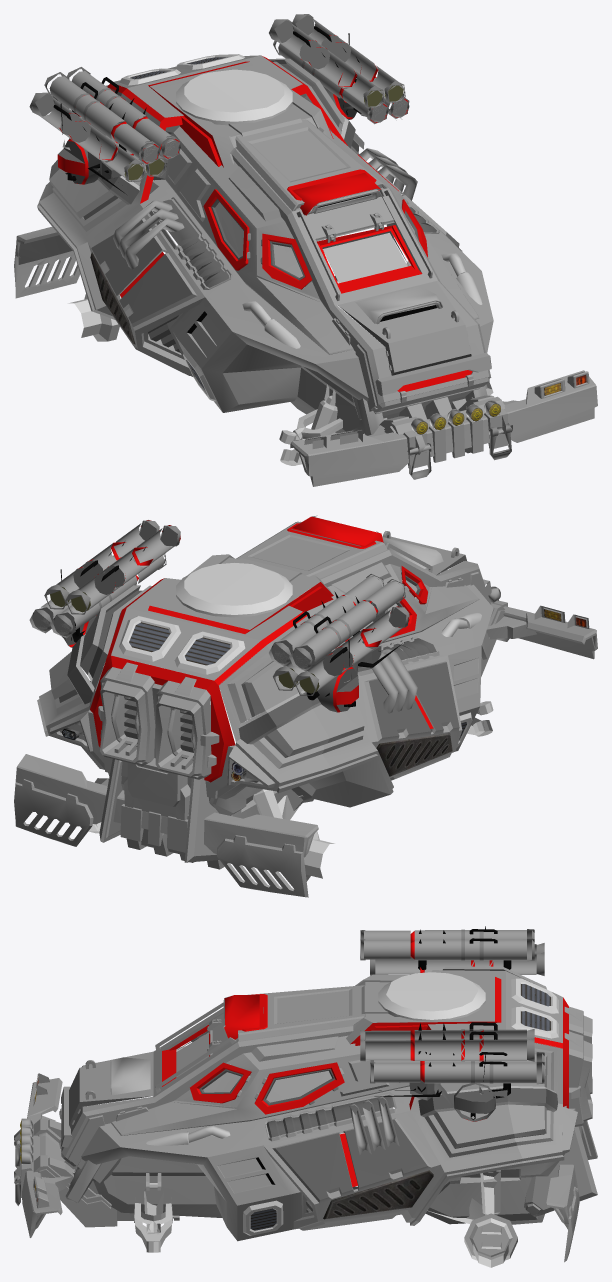
File: battle_car_far.glb
3 views of the same model, one above another, from view 1: azimuth 30°, elevation 25°; view 2: azimuth 150°, elevation 25°; view 3: azimuth 270°, elevation 25° (orthographic). The views are drawn at different scales.
Parts seen in each view (by area): view 1: Material2 (×7), Material3 (×4); view 2: Material2 (×6), Material3 (×5); view 3: Material2 (×5), Material3 (×5).
Part boxes in pixels (x1,y1,x2,y2): Material2 (×7): (14,14,597,486); Material3 (×4): (58,54,491,401); Material2 (×6): (14,515,597,897); Material3 (×5): (59,537,489,881); Material2 (×5): (14,926,597,1262); Material3 (×5): (61,972,558,1267).
Bounding box in the file's own units: 4.29 × 3.26 × 7.23.
Materials: 18 (8 with a texture image).
